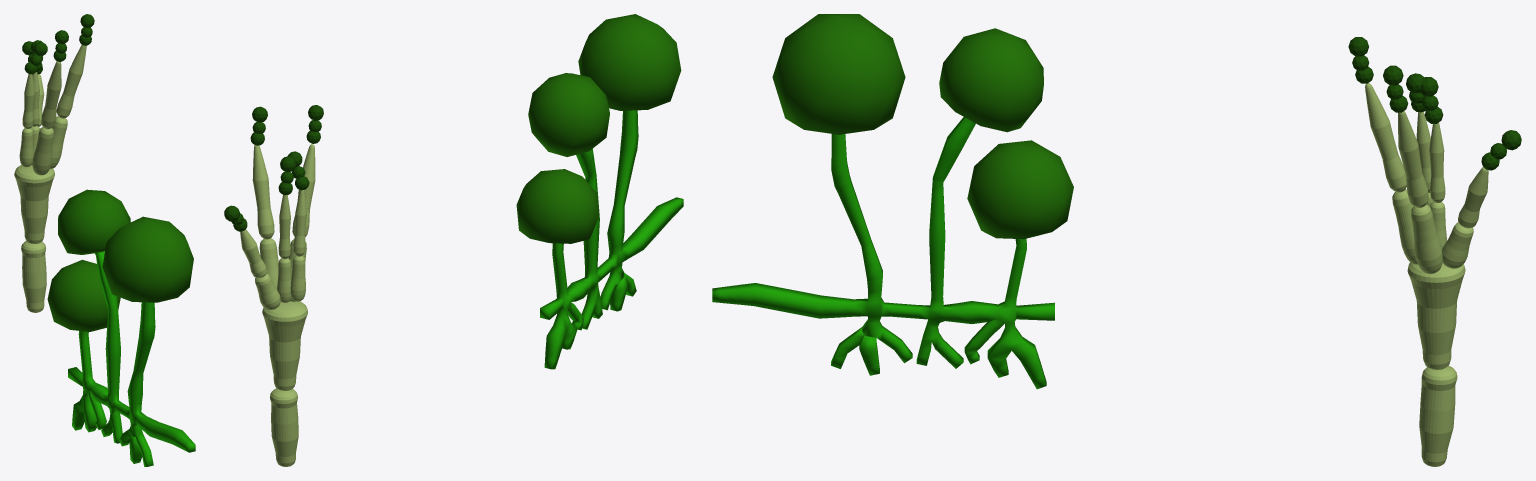
File: fungi2.gltf
3 views of the same model, side by side, from view 1: azimuth 30°, elevation 25°; view 2: azimuth 150°, elevation 25°; view 3: azimuth 270°, elevation 25° (orthographic). The views are drawn at different scales.
Visible parts, largest first — view 1: Sphere.009, Cube, Icosphere, Icosphere.001, Icosphere.002; view 2: Sphere.009, Cube, Icosphere, Icosphere.001, Icosphere.002; view 3: Sphere.009, Cube, Icosphere, Icosphere.002, Icosphere.001.
Boxes of the visible parts, <box> form: Sphere.009: <box>14,14,94,312</box>; Cube: <box>68,251,195,466</box>; Icosphere: <box>102,216,193,302</box>; Icosphere.001: <box>58,189,130,254</box>; Icosphere.002: <box>47,259,120,331</box>; Sphere.009: <box>224,105,323,466</box>; Cube: <box>540,110,683,369</box>; Icosphere: <box>578,14,681,110</box>; Icosphere.001: <box>528,73,609,156</box>; Icosphere.002: <box>516,169,599,243</box>; Sphere.009: <box>1348,37,1521,466</box>; Cube: <box>712,117,1054,389</box>; Icosphere: <box>772,14,905,134</box>; Icosphere.002: <box>967,140,1073,239</box>; Icosphere.001: <box>939,28,1043,132</box>.
Bounding box in the file's own units: 1.5 × 2.42 × 4.15.
